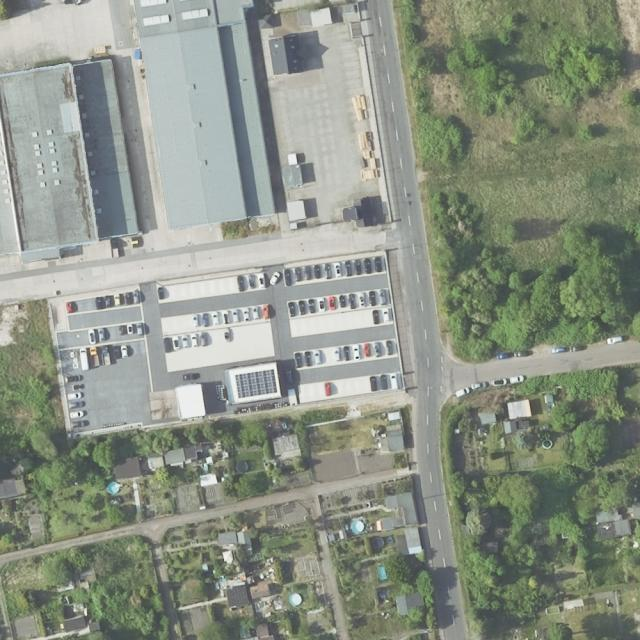PV: (234, 368, 277, 399)
